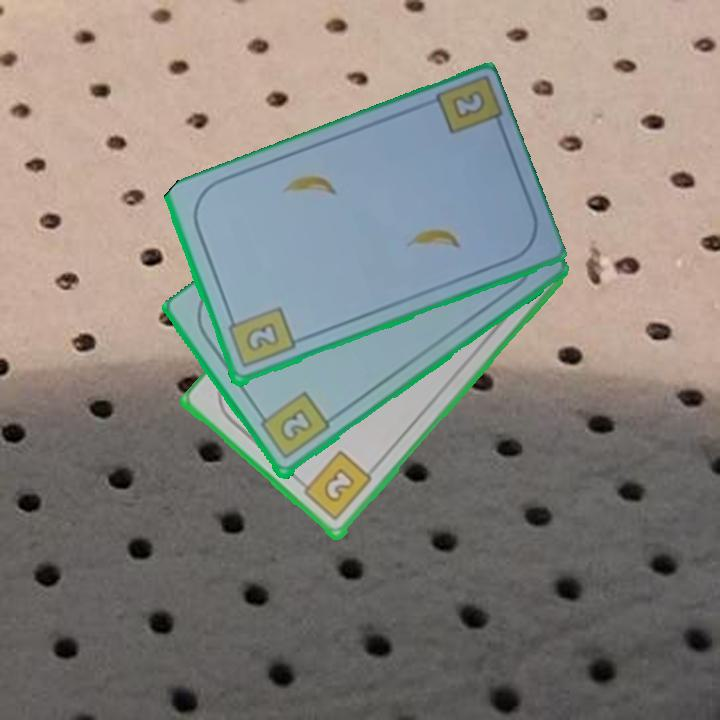2b: (294, 448, 375, 524), (254, 389, 333, 463), (224, 304, 297, 372), (447, 86, 488, 123)
